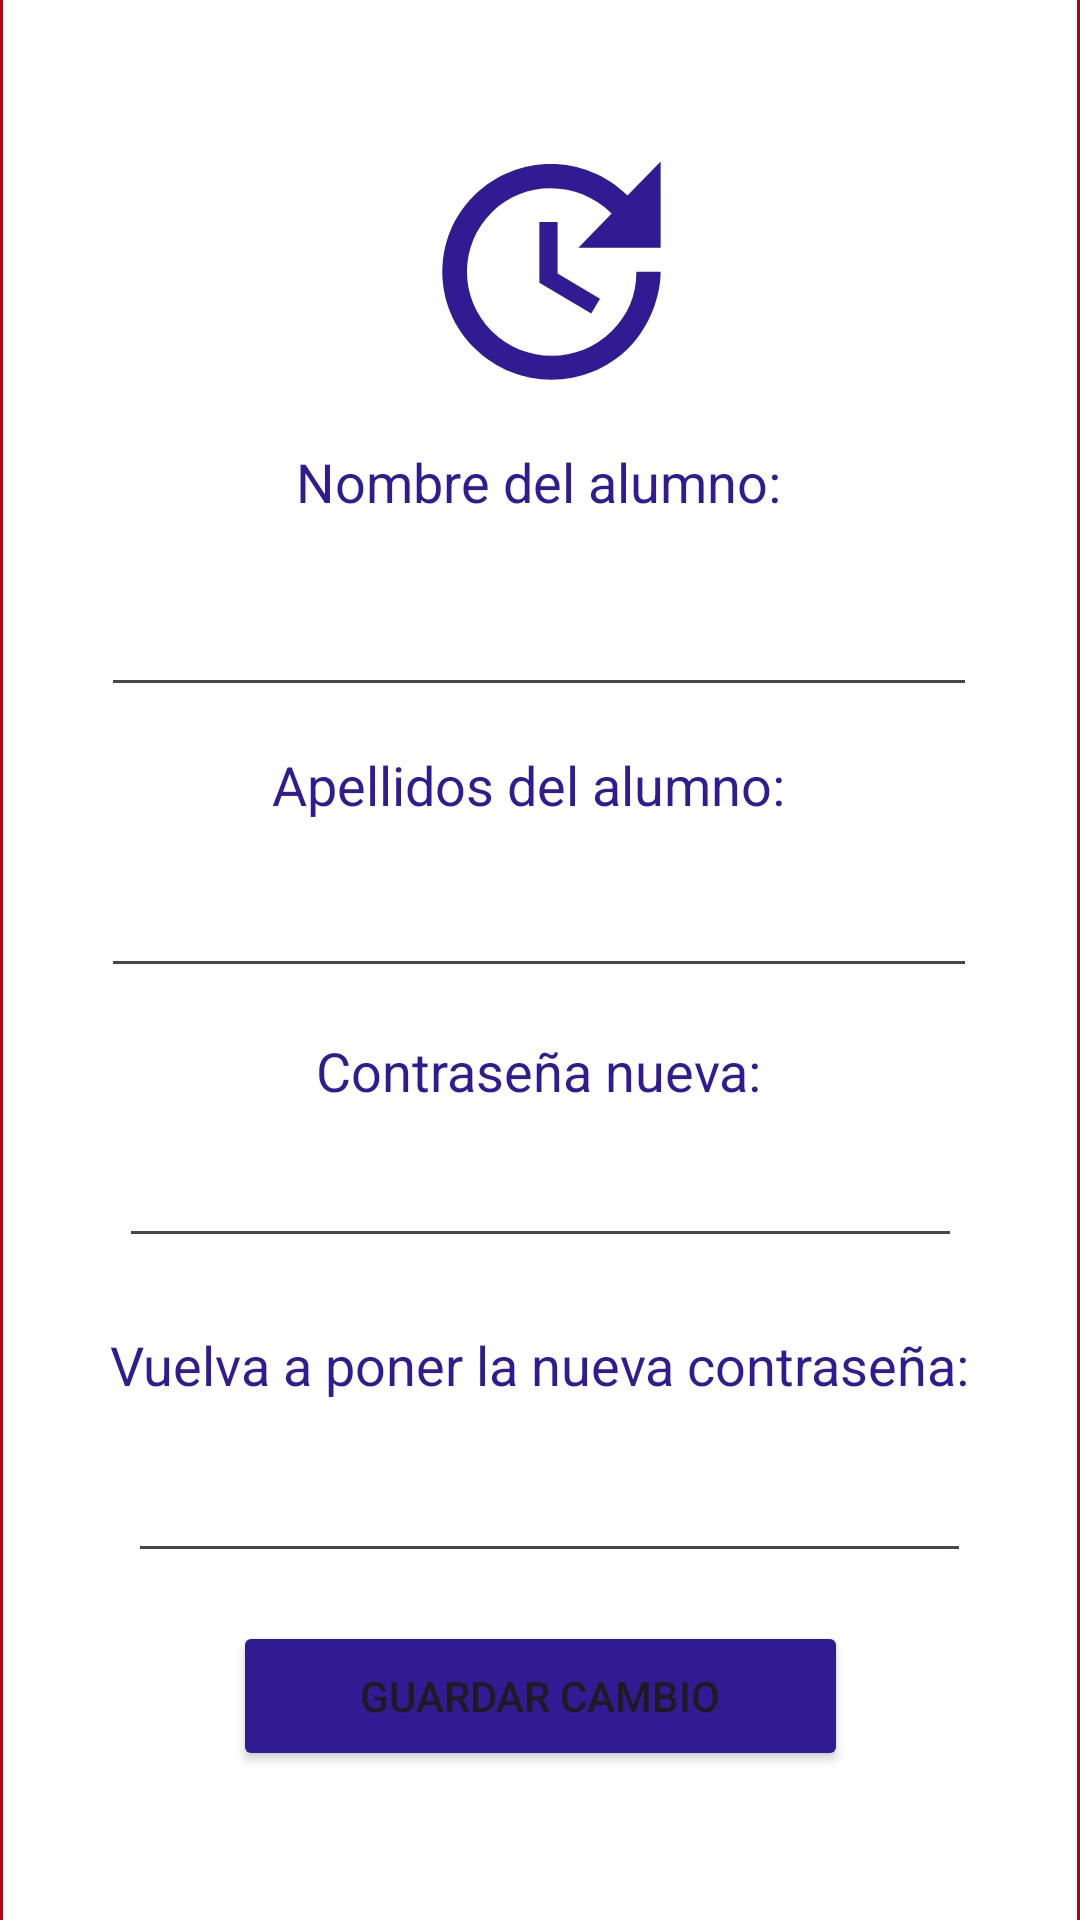

Icon click points for this 1080px×1920px phone screenshot, format [x,y]:
update: [551,270]
